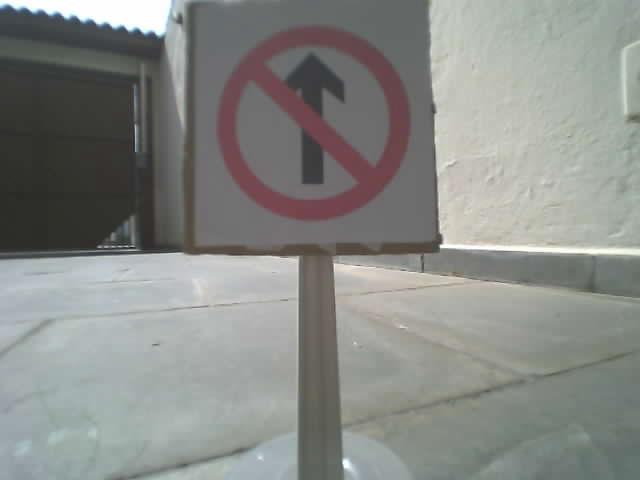R-3_sentido-proibido: (216, 24, 410, 220)
